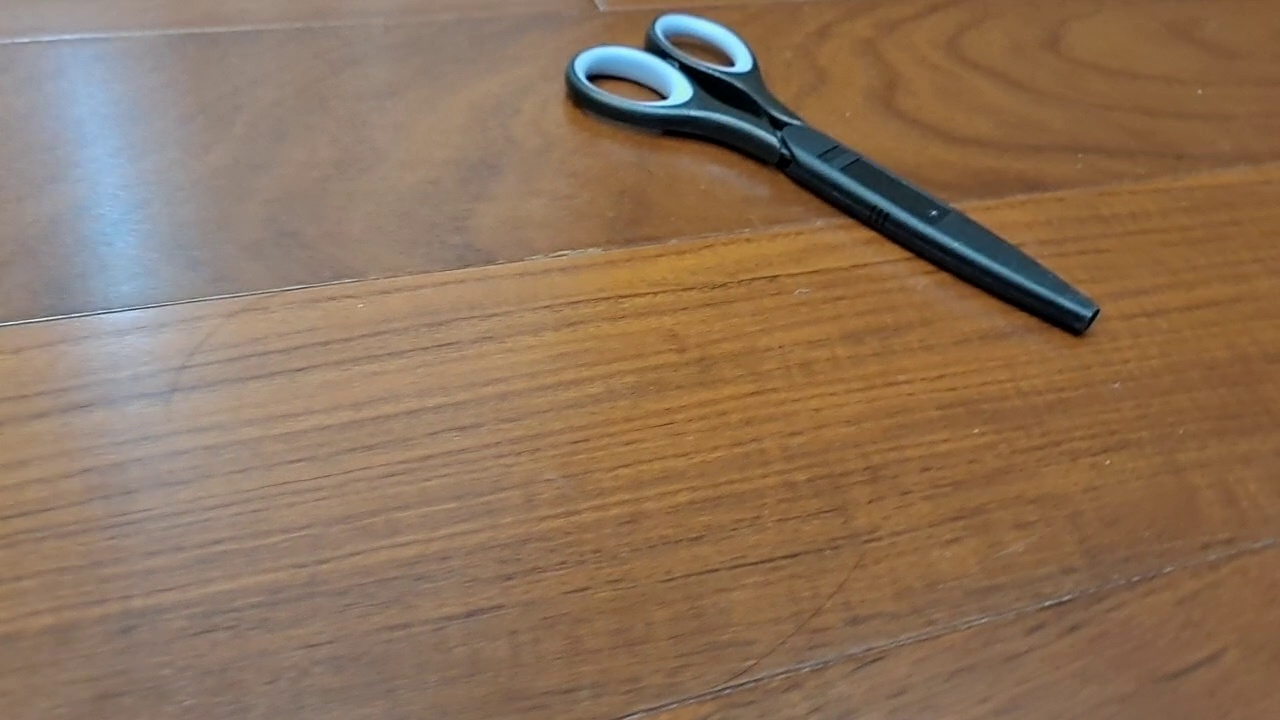scissors: (564, 10, 1102, 338)
